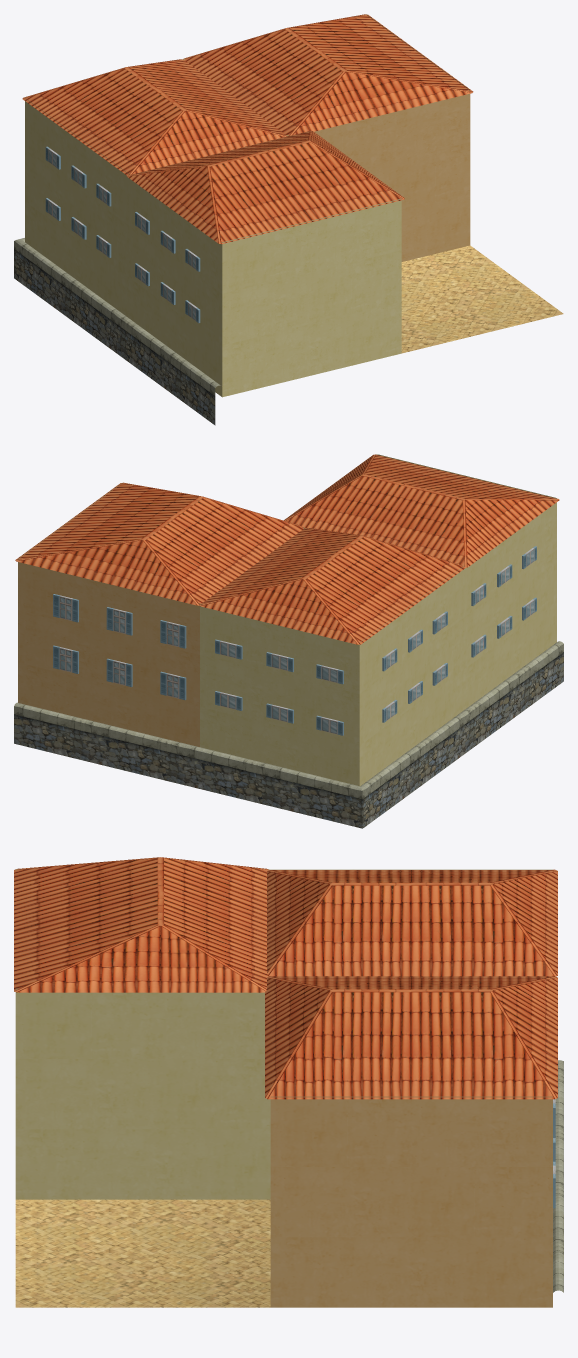
File: Dock_Corner.fbx
3 views of the same model, one above another, from view 1: azimuth 30°, elevation 25°; view 2: azimuth 150°, elevation 25°; view 3: azimuth 270°, elevation 25° (orthographic). The views are drawn at different scales.
Visible parts, largest first — view 1: Dock_Corner; view 2: Dock_Corner; view 3: Dock_Corner.
Part boxes in pixels (<box>): Dock_Corner: <box>14,14,563,425</box>; Dock_Corner: <box>14,454,563,828</box>; Dock_Corner: <box>14,857,563,1307</box>.
Bounding box in the file's own units: 10.33 × 5.89 × 10.3.
